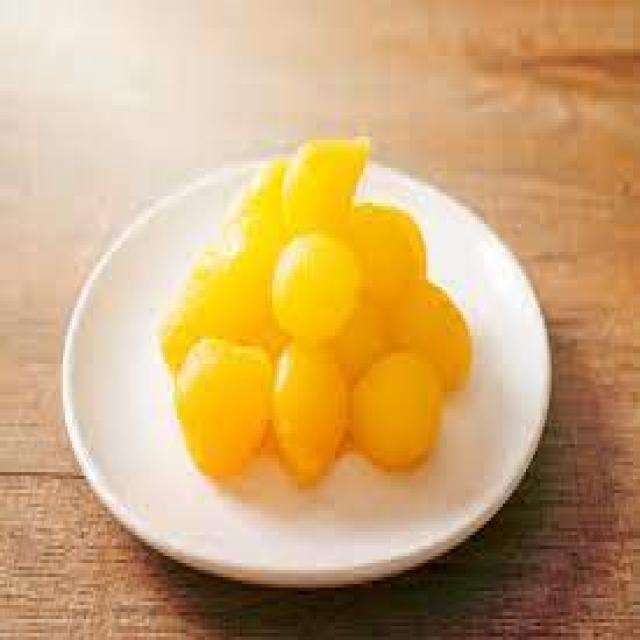Tongyord: (165, 340, 276, 484), (346, 341, 448, 471), (260, 221, 356, 343), (274, 347, 348, 501), (269, 139, 384, 229)
